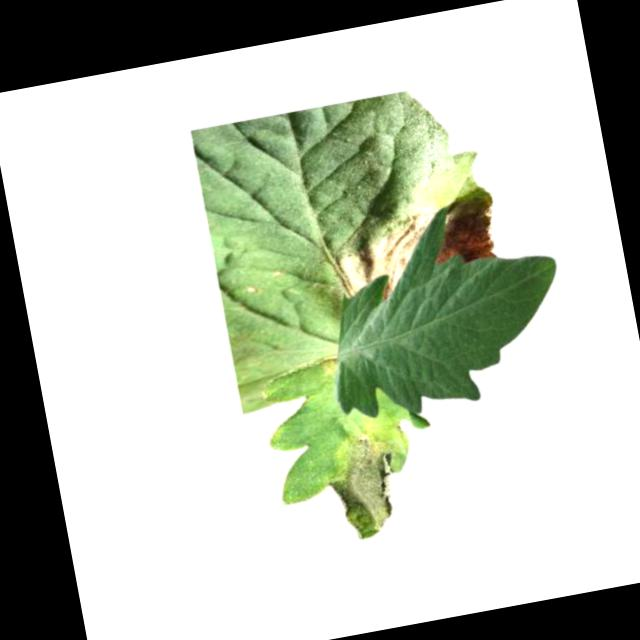Late_blight: (327, 207, 446, 309), (324, 429, 415, 542), (422, 187, 505, 271)
healthy: (316, 243, 577, 424)
